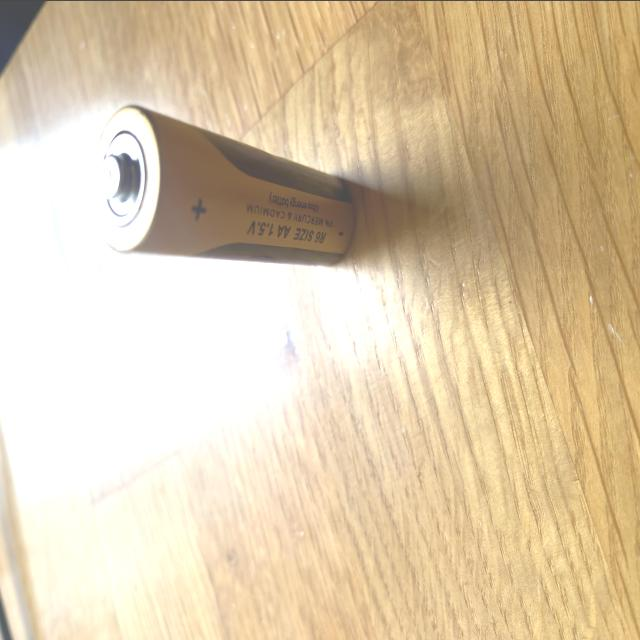AA: (88, 98, 362, 272)
